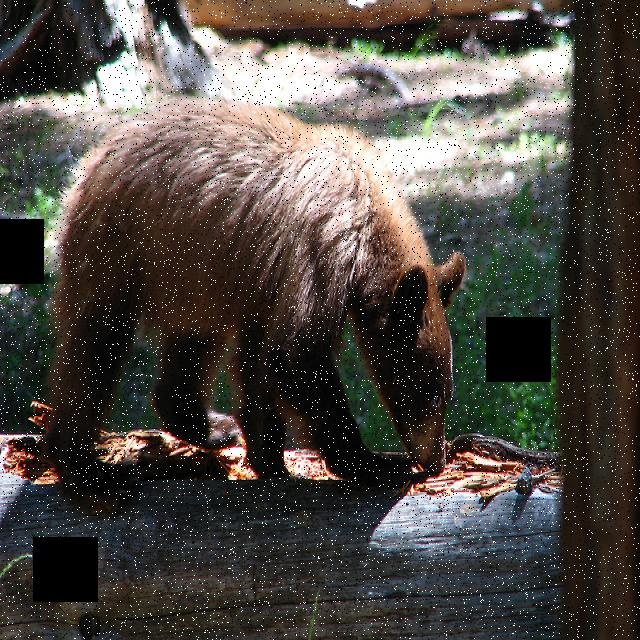Bear: (35, 91, 460, 492)
